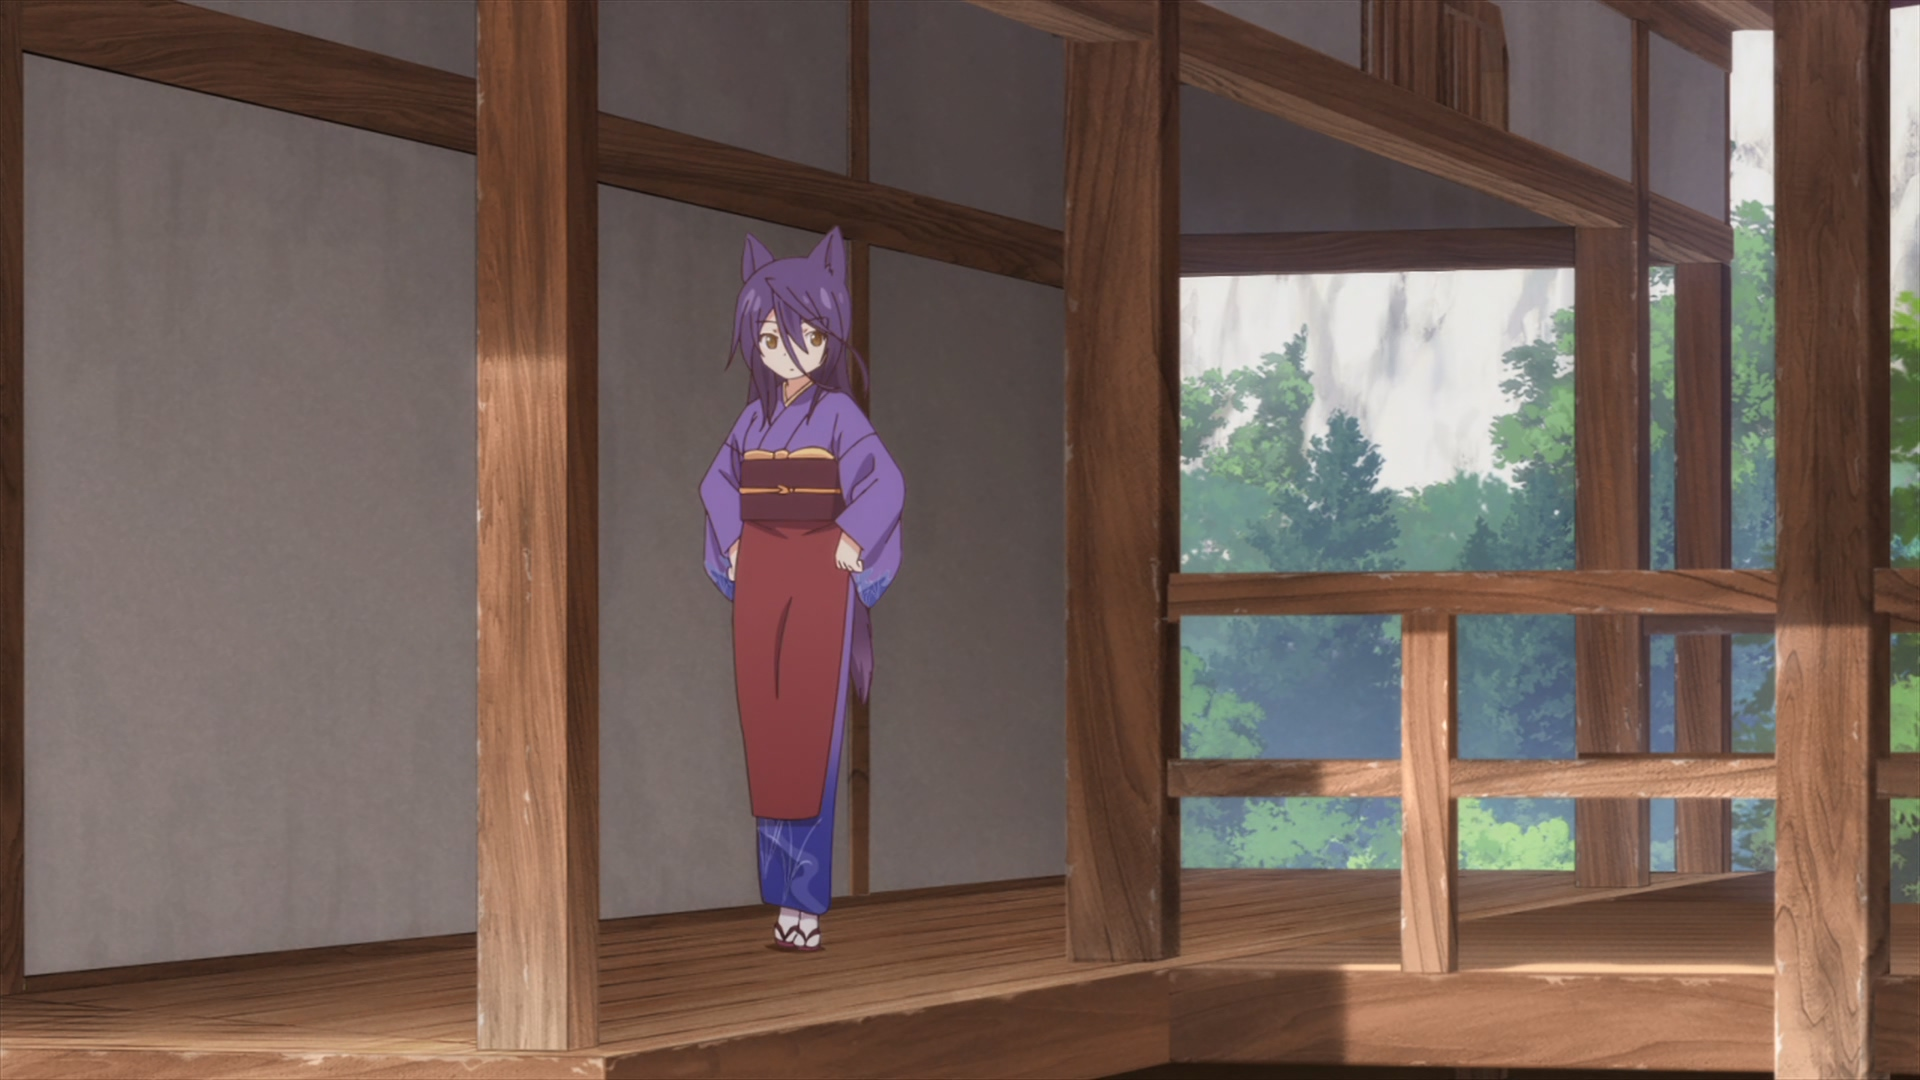皋: (698, 228, 902, 955)
